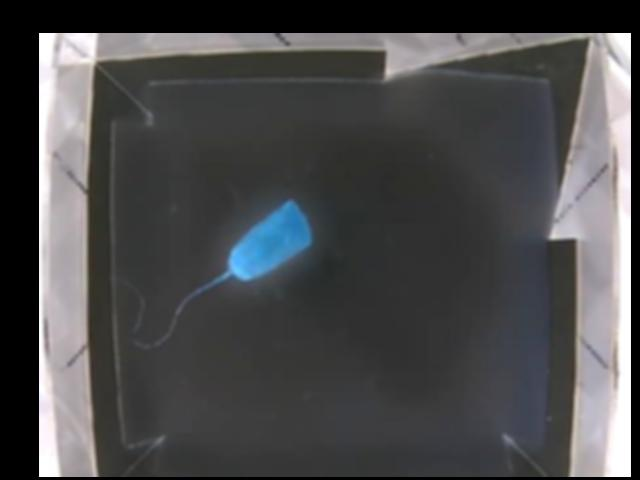Carrot: (224, 199, 314, 285)
